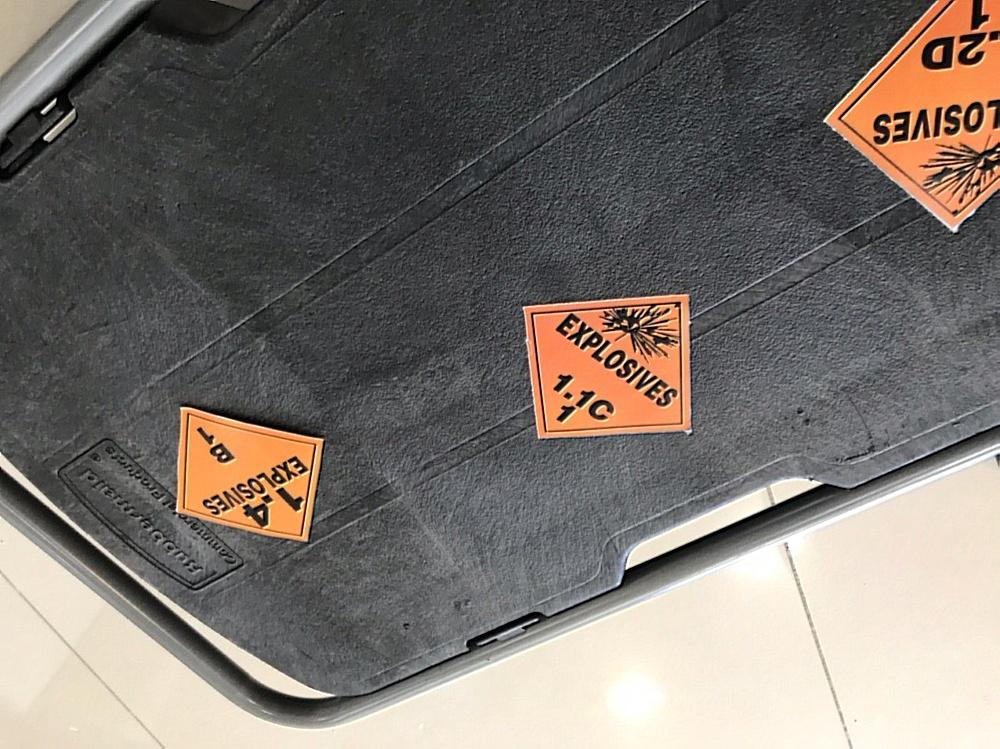explosive: (821, 1, 999, 228), (520, 298, 701, 442), (178, 404, 328, 543)
